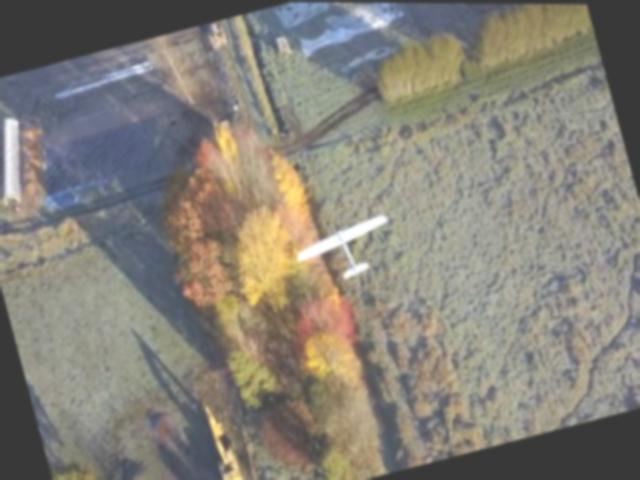uav: (287, 201, 405, 294)
